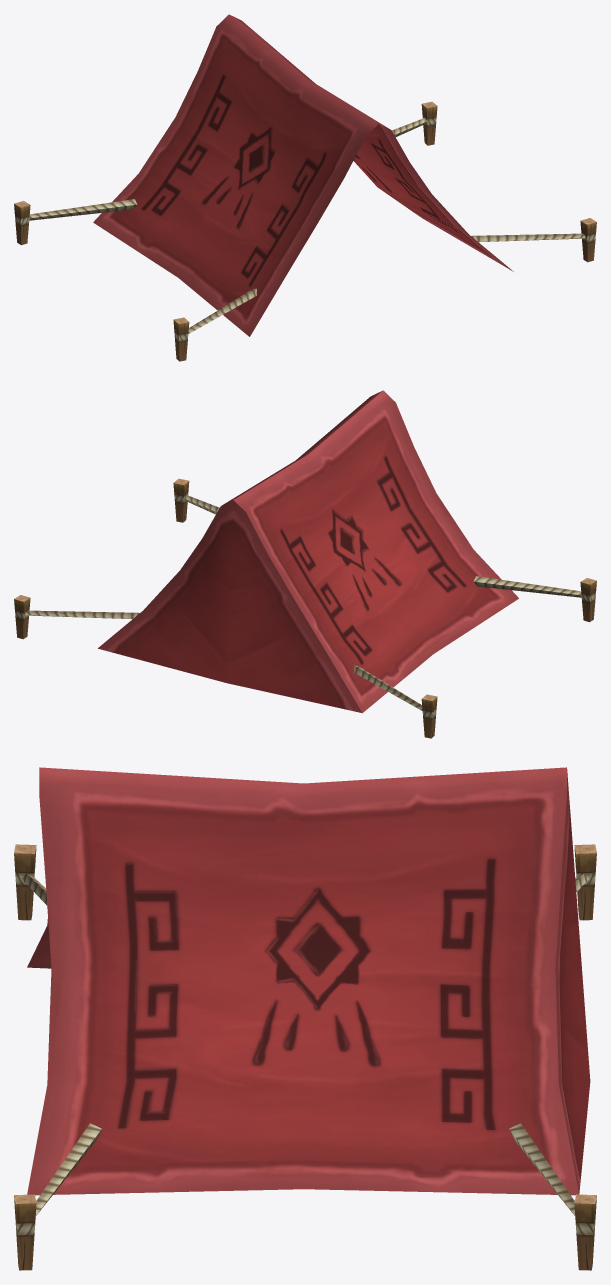
Rendered from tent_red_02.fbx.
3 renders of one model, top to bottom at view 1: azimuth 30°, elevation 25°; view 2: azimuth 150°, elevation 25°; view 3: azimuth 270°, elevation 25°, orthographic. The views are drawn at different scales.
Parts seen in each view (by area): view 1: tent_red_02:Mesh; view 2: tent_red_02:Mesh; view 3: tent_red_02:Mesh.
Boxes of the visible parts, x1,y1,x2,y2 form: tent_red_02:Mesh: [14, 14, 596, 361]; tent_red_02:Mesh: [14, 390, 596, 738]; tent_red_02:Mesh: [14, 767, 596, 1270].
Size of the model in its own units: 6.05 by 2.54 by 4.14.
